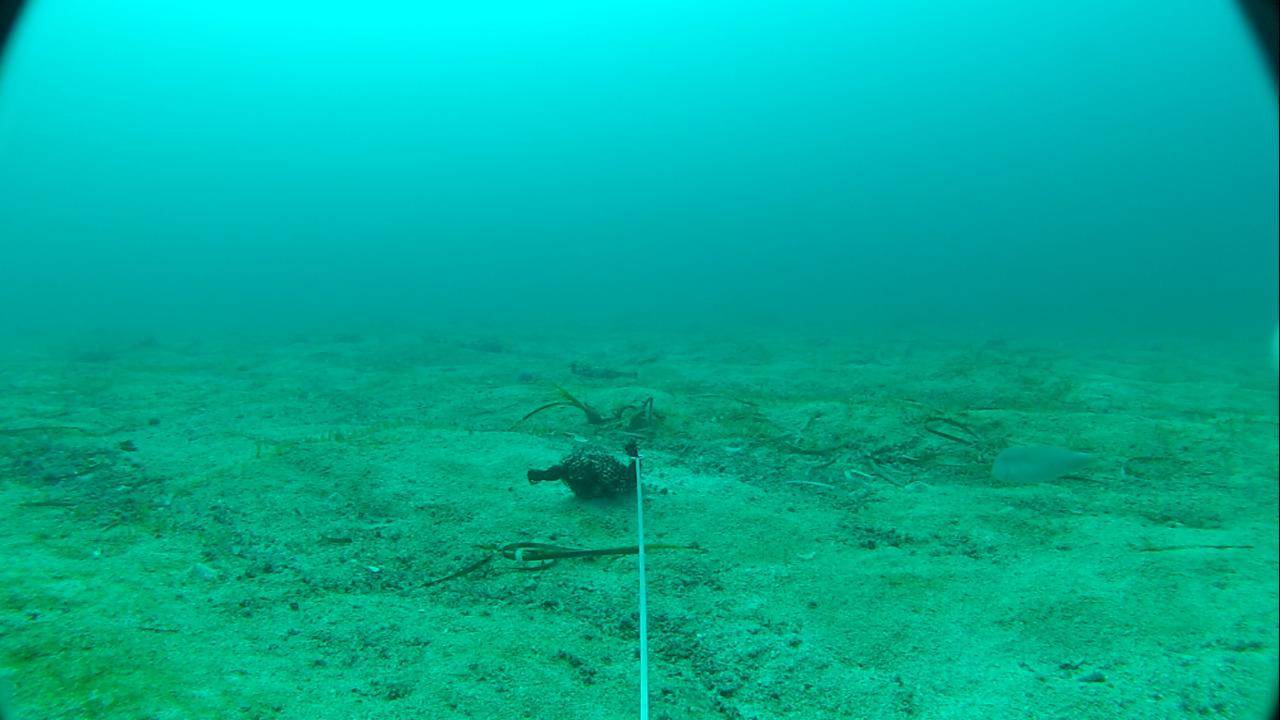dactylopterus: (562, 350, 655, 385)
raor: (987, 436, 1131, 499)
